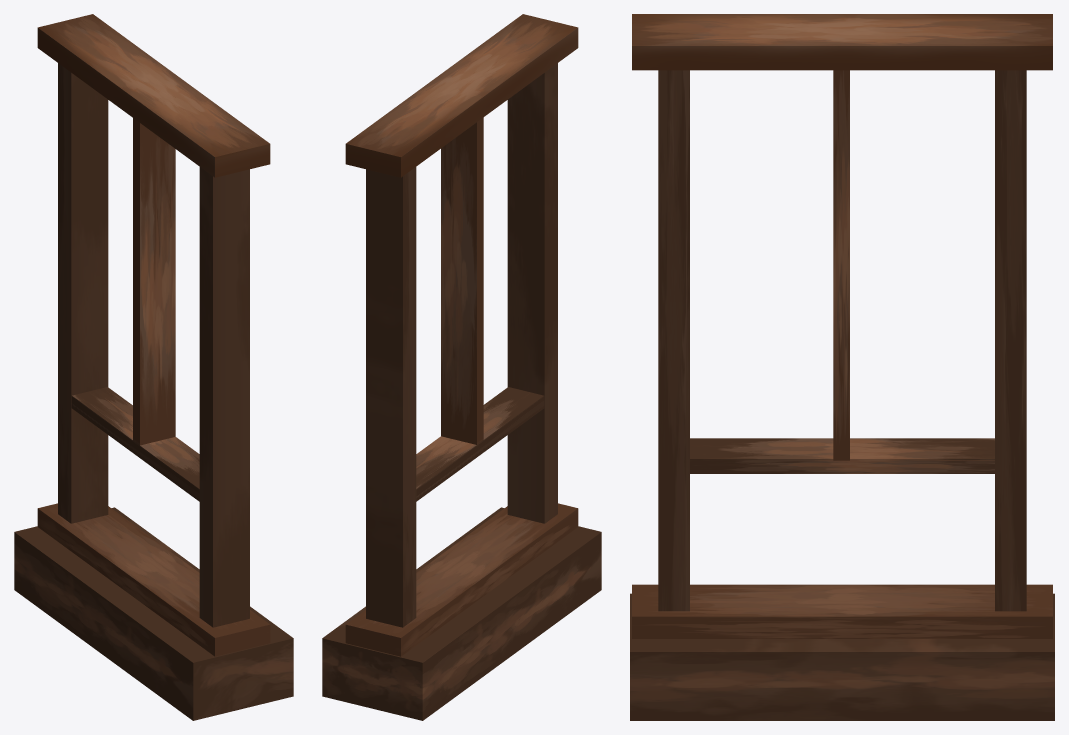
File: window_texture.fbx
3 renders of one model, left to right at view 1: azimuth 30°, elevation 25°; view 2: azimuth 150°, elevation 25°; view 3: azimuth 270°, elevation 25°, orthographic. The views are drawn at different scales.
Parts seen in each view (by area): view 1: Cube.005; view 2: Cube.005; view 3: Cube.005.
Part boxes in pixels (box(x1,y1,x2,y2)): Cube.005: box(14, 14, 293, 720); Cube.005: box(322, 14, 601, 720); Cube.005: box(630, 14, 1054, 720).
Bounding box in the file's own units: 130 × 689 × 401.
1 material, 1 textured.
